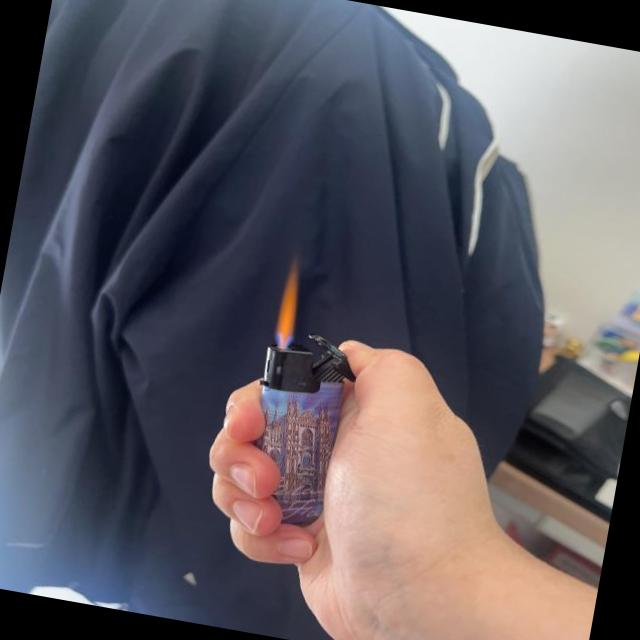Fire: (267, 257, 308, 352)
